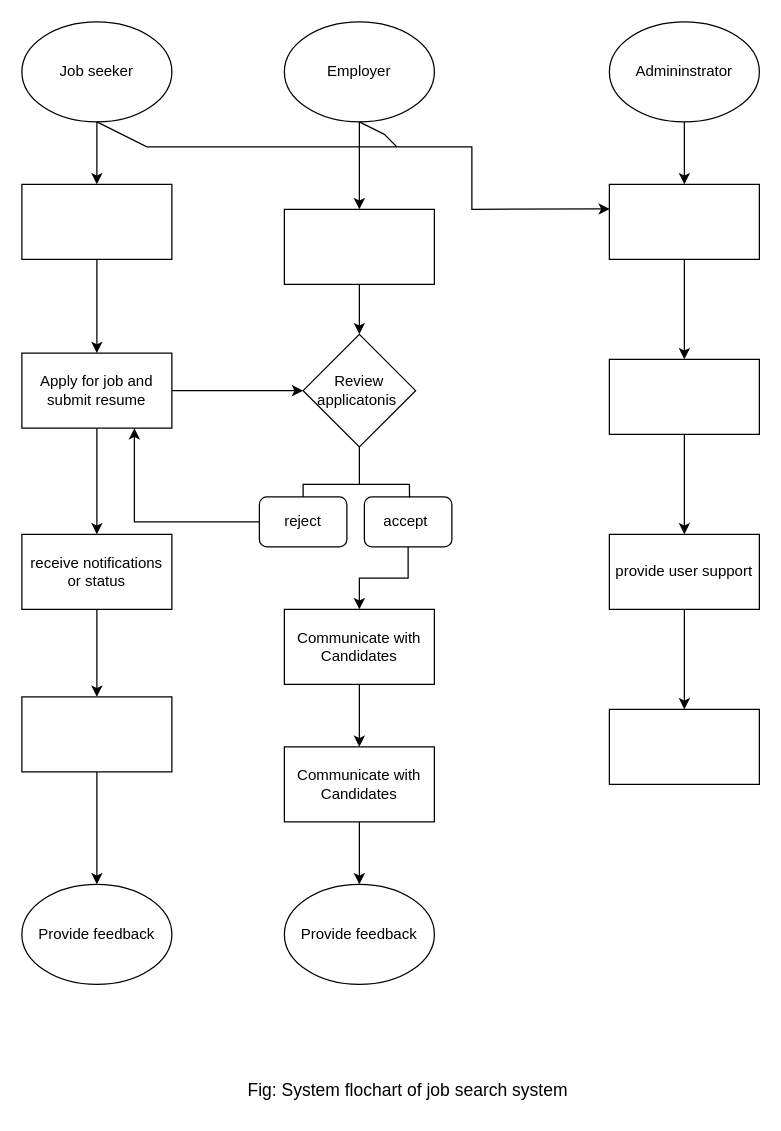
Image size: 781x1131. Some labels were removed from this diagram. Each missing label, with the box of its shape:
Accept or reject offer: (21, 696, 172, 772)
manage user accounts and profiles: (608, 183, 759, 259)
monitor system performance: (608, 358, 759, 434)
perform system maintenace: (608, 708, 759, 784)
Register/Create jobs: (283, 208, 434, 284)
Search for jobs & view listing: (21, 183, 172, 259)
